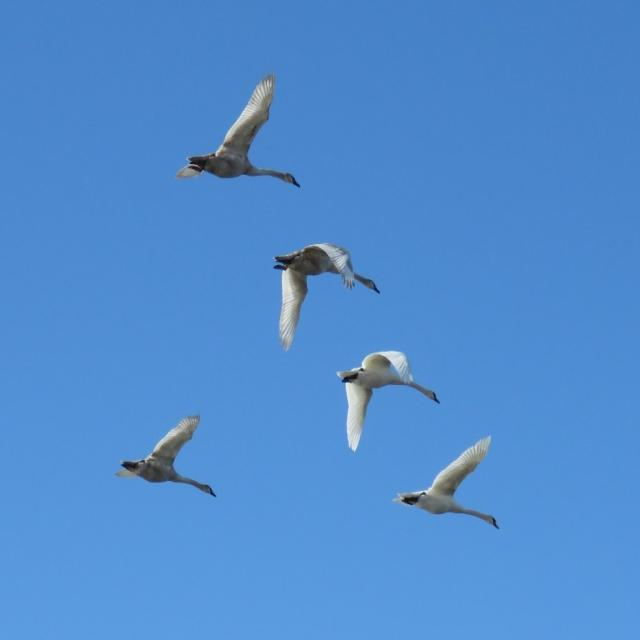bird: (174, 74, 286, 189), (269, 246, 385, 352), (333, 348, 443, 455), (390, 434, 496, 522), (114, 414, 213, 495)
